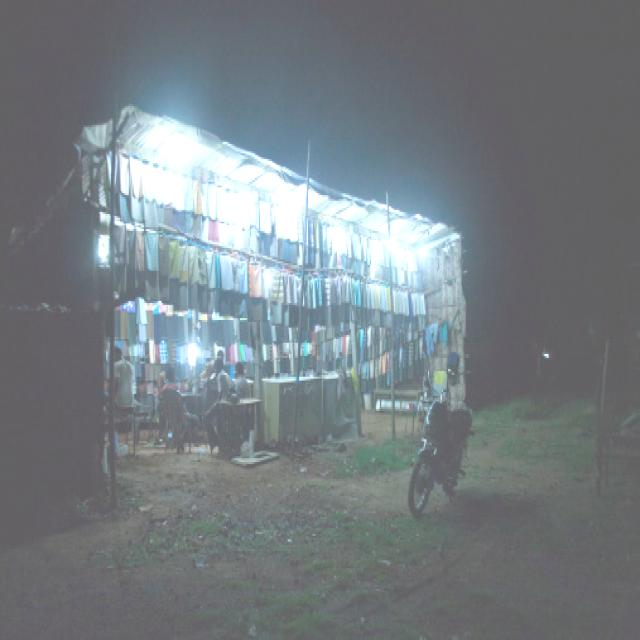Motorbike: (407, 374, 472, 504)
